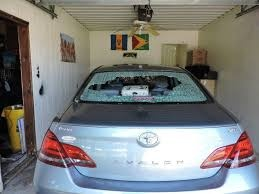Broken-glass: (86, 72, 195, 98)
Dent: (88, 137, 144, 159)
